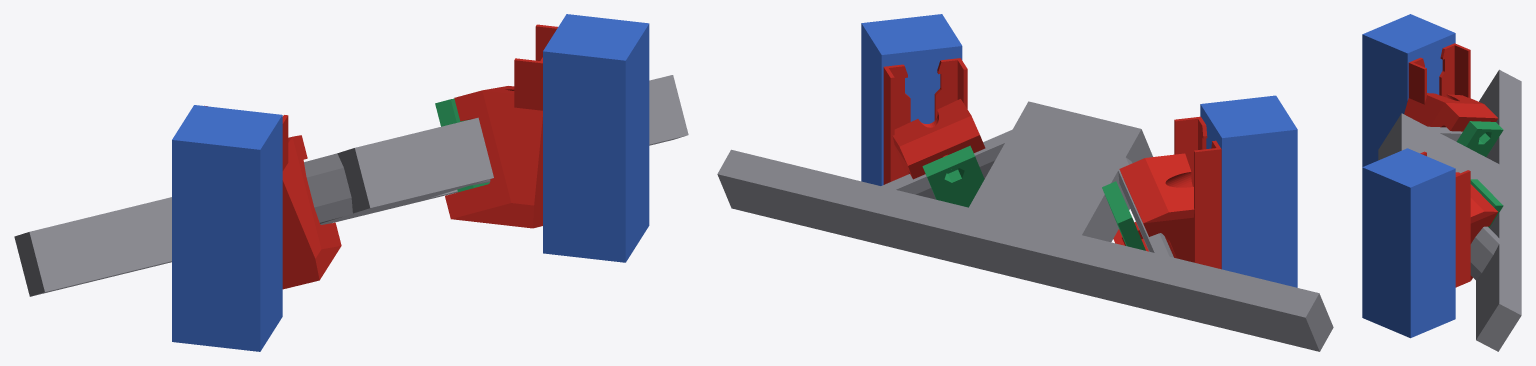
The model's file is assembly_m11.obj.
3 renders of one model, left to right at view 1: azimuth 30°, elevation 25°; view 2: azimuth 150°, elevation 25°; view 3: azimuth 270°, elevation 25°, orthographic. The views are drawn at different scales.
Visible parts, largest first — view 1: left_light_placeholder, right_light_placeholder, hanger_schematic, right_saddle, left_saddle, right_keeper; view 2: hanger_schematic, left_light_placeholder, left_saddle, right_light_placeholder, right_saddle, right_keeper, left_keeper; view 3: right_light_placeholder, hanger_schematic, left_light_placeholder, left_saddle, right_saddle, left_keeper, right_keeper.
Part boxes in pixels (x1,y1,x2,y2): left_light_placeholder: (172,105,282,351); right_light_placeholder: (543,14,649,262); hanger_schematic: (14,75,688,296); right_saddle: (445,24,557,228); left_saddle: (204,105,341,289); right_keeper: (435,98,489,192); hanger_schematic: (717,101,1333,351); left_light_placeholder: (1200,95,1297,287); left_saddle: (1113,116,1221,269); right_light_placeholder: (861,14,962,185); right_saddle: (883,58,985,184); right_keeper: (922,145,984,207); left_keeper: (1102,181,1145,250); right_light_placeholder: (1362,148,1455,338); hanger_schematic: (1378,69,1521,351); left_light_placeholder: (1362,14,1455,166); left_saddle: (1404,43,1498,131); right_saddle: (1420,151,1497,287); left_keeper: (1456,121,1503,156); right_keeper: (1470,179,1503,227).
Size of the model in its own units: 260 by 78 by 74.77.
